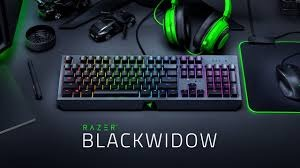keyboard: (55, 50, 245, 113)
mouse: (273, 59, 300, 110)
